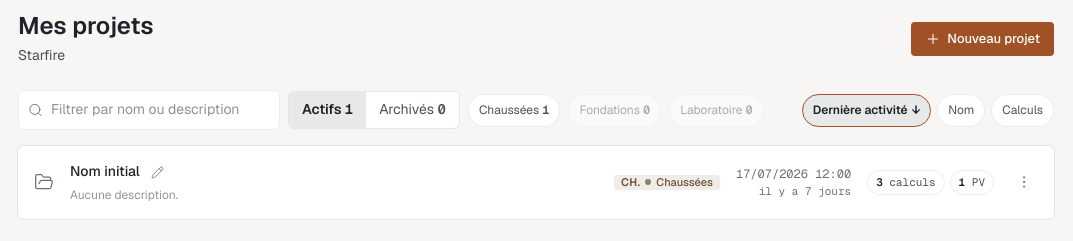
Test: Liste des projets — renommage en ligne › #1 GIVEN un projet — WHEN on clique Renommer — THEN un champ pré-rempli s’ouvre
The image size is (1073, 241).
Click the button named "Renommer le projet Nom initial": x=158, y=172 [146,160,170,184]
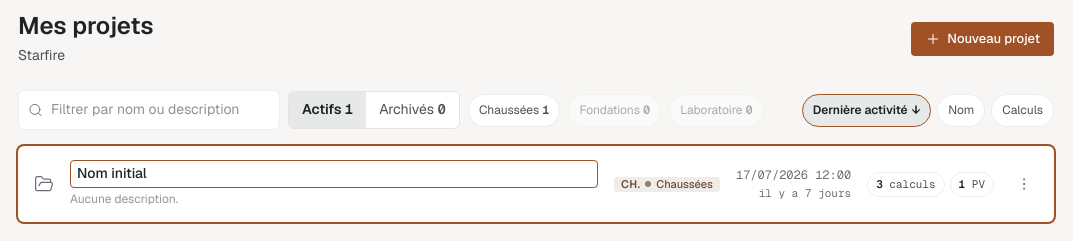
Check: the field named "Renommer le projet Nom initial" holds "Nom initial", box [70,160,598,188]
